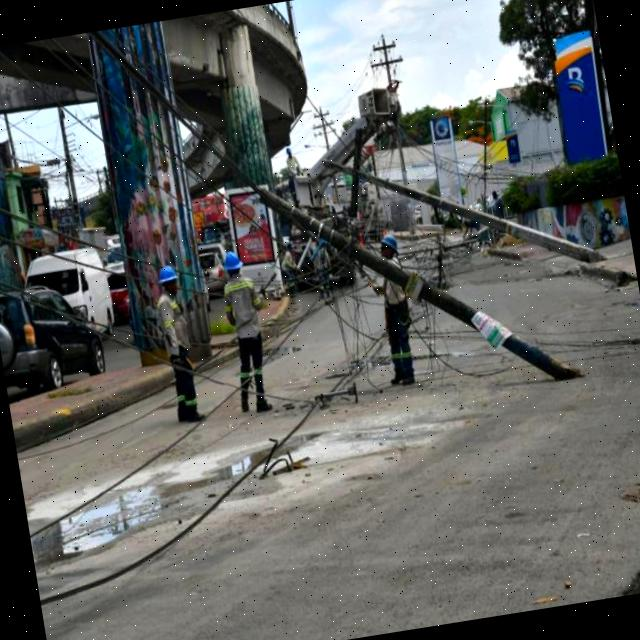Broken Pole: (92, 0, 579, 442), (320, 93, 600, 304)
